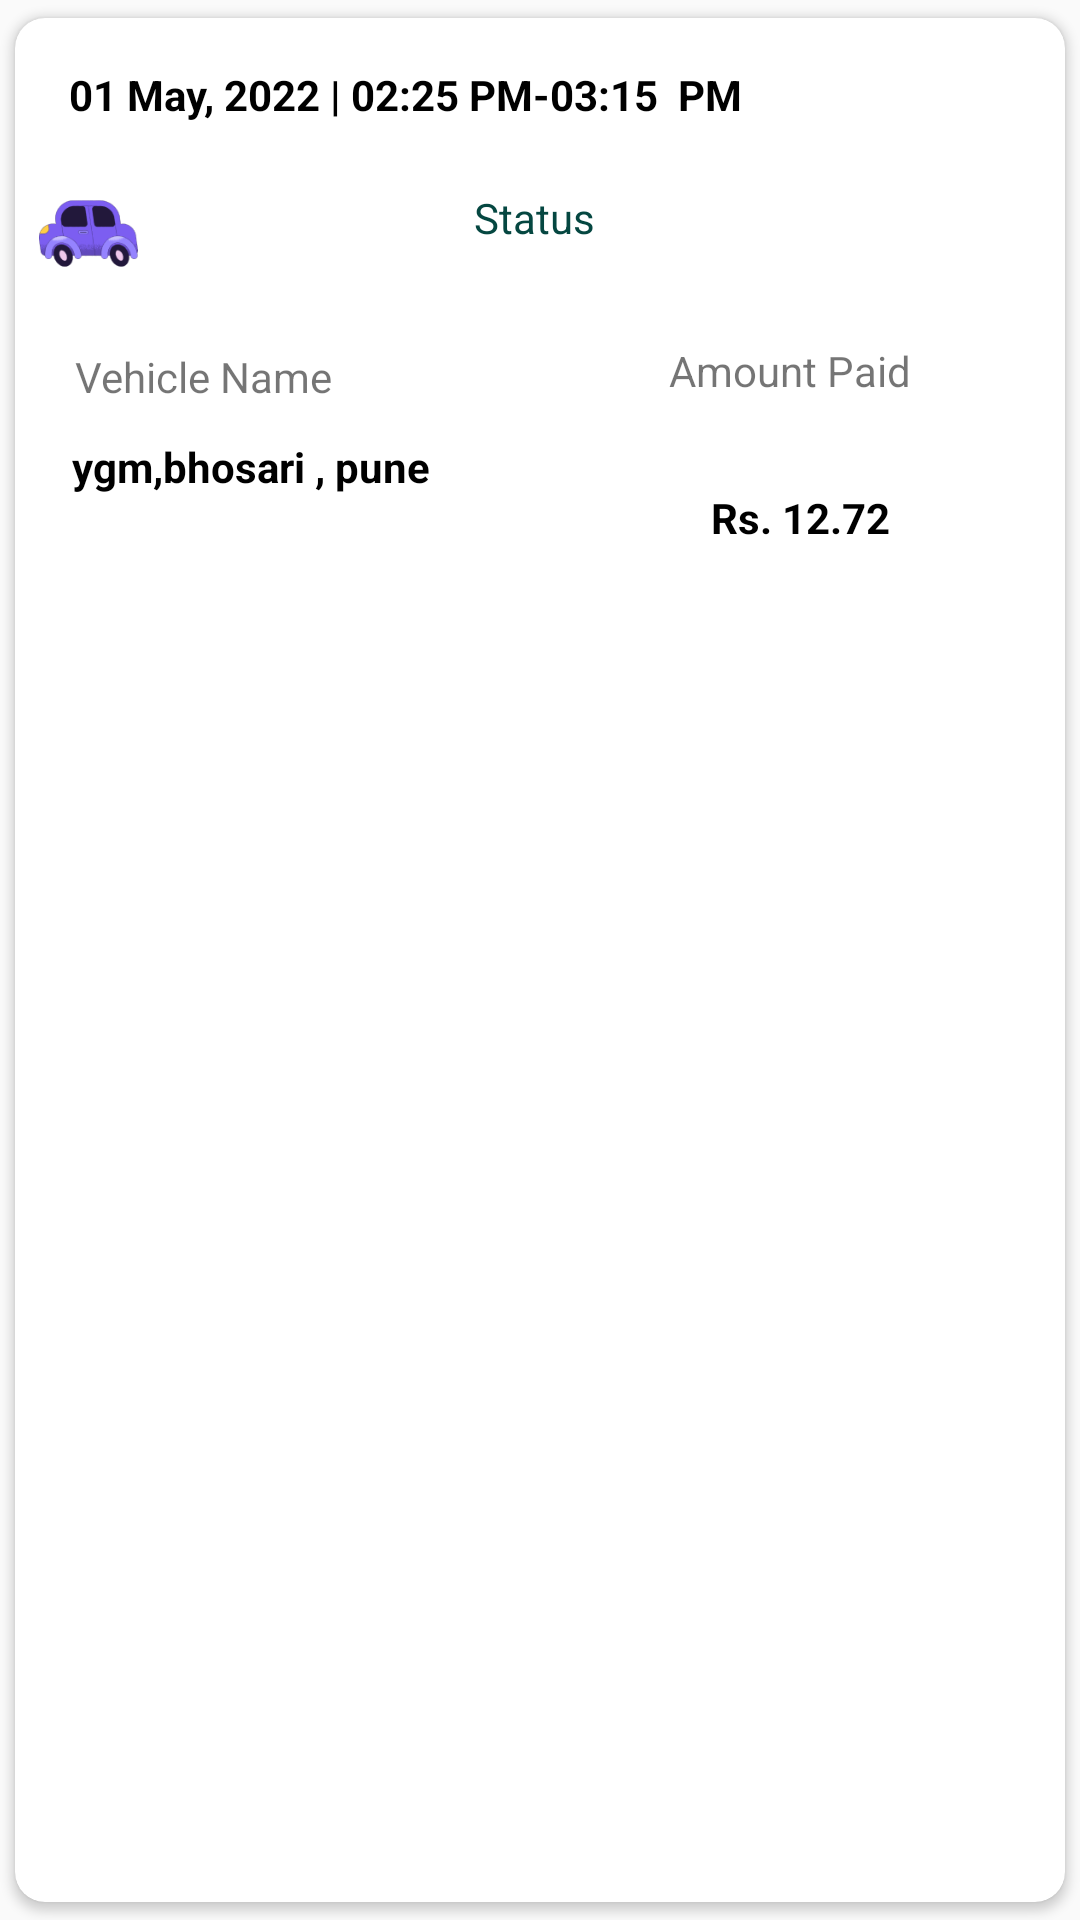

Screen size 1080*1920. Icon name, then its center in pixels as (x=x, y=y):
car: (x=88, y=233)
